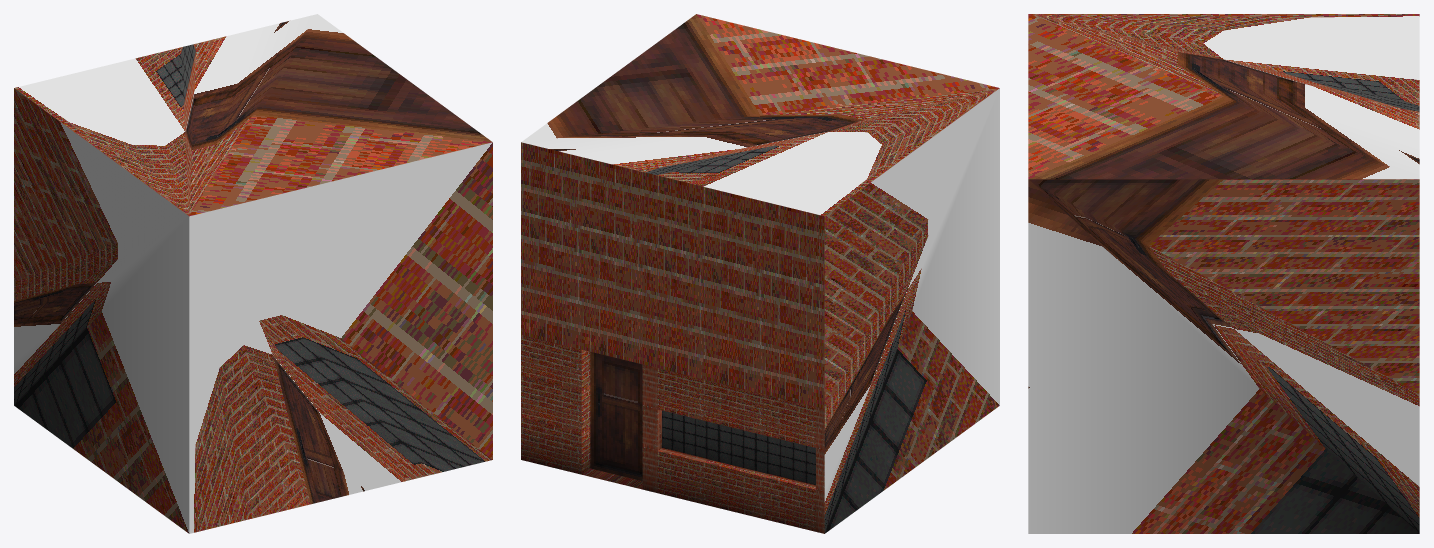
File: buildingtest.glb
The picture shows the model from 3 angles, left to right: view 1: azimuth 30°, elevation 25°; view 2: azimuth 150°, elevation 25°; view 3: azimuth 270°, elevation 25°; orthographic projection. The views are drawn at different scales.
Parts seen in each view (by area): view 1: shop1; view 2: shop1; view 3: shop1.
Part boxes in pixels (x1,y1,x2,y2): shop1: (14,14,492,533); shop1: (521,14,999,533); shop1: (1028,14,1419,533).
Size of the model in its own units: 6.1 by 6.1 by 6.1.
1 material, 1 textured.
